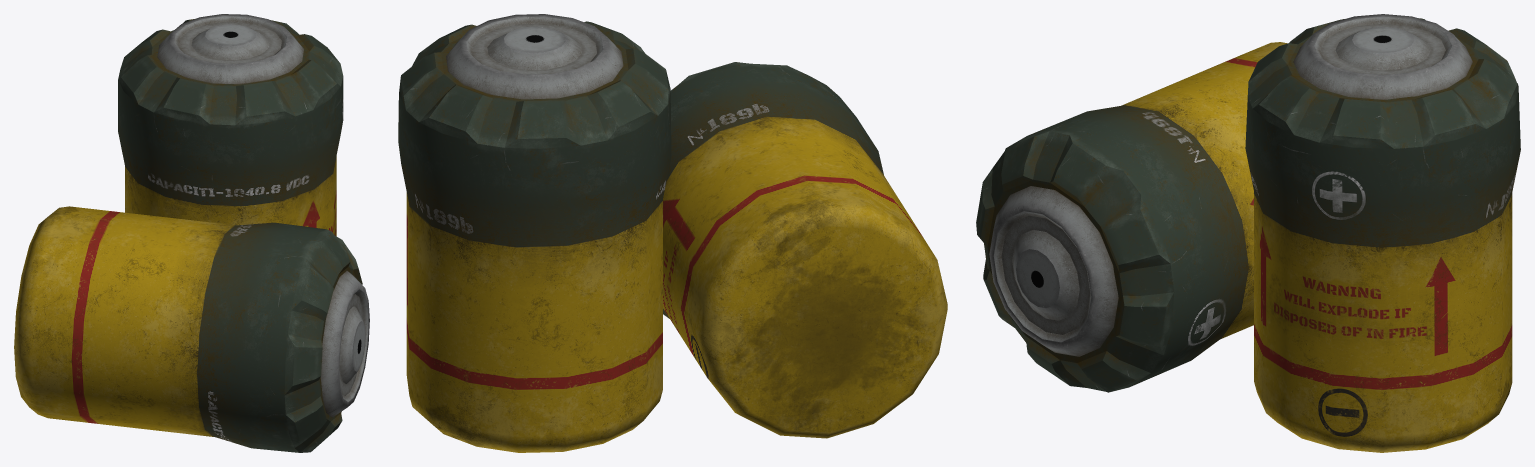
The model's file is Battery.obj.
3 views of the same model, side by side, from view 1: azimuth 30°, elevation 25°; view 2: azimuth 150°, elevation 25°; view 3: azimuth 270°, elevation 25° (orthographic). The views are drawn at different scales.
Parts seen in each view (by area): view 1: polySurface26_low1_lambert6_0, polySurface26_low_lambert6_0, polySurface28_low_lambert6_0; view 2: polySurface26_low_lambert6_0, polySurface26_low1_lambert6_0, polySurface28_low_lambert6_0; view 3: polySurface26_low_lambert6_0, polySurface26_low1_lambert6_0, polySurface28_low_lambert6_0.
Part boxes in pixels (x1=…): polySurface26_low1_lambert6_0: x1=14, y1=206, x2=369, y2=452; polySurface26_low_lambert6_0: x1=118, y1=19, x2=343, y2=236; polySurface28_low_lambert6_0: x1=157, y1=14, x2=303, y2=84; polySurface26_low_lambert6_0: x1=398, y1=21, x2=671, y2=452; polySurface26_low1_lambert6_0: x1=663, y1=62, x2=947, y2=438; polySurface28_low_lambert6_0: x1=446, y1=14, x2=623, y2=99; polySurface26_low_lambert6_0: x1=1245, y1=18, x2=1520, y2=452; polySurface26_low1_lambert6_0: x1=976, y1=42, x2=1287, y2=392; polySurface28_low_lambert6_0: x1=1293, y1=14, x2=1472, y2=99.
Bounding box in the file's own units: 0.1426 × 0.1122 × 0.1487.
1 material, 1 textured.
